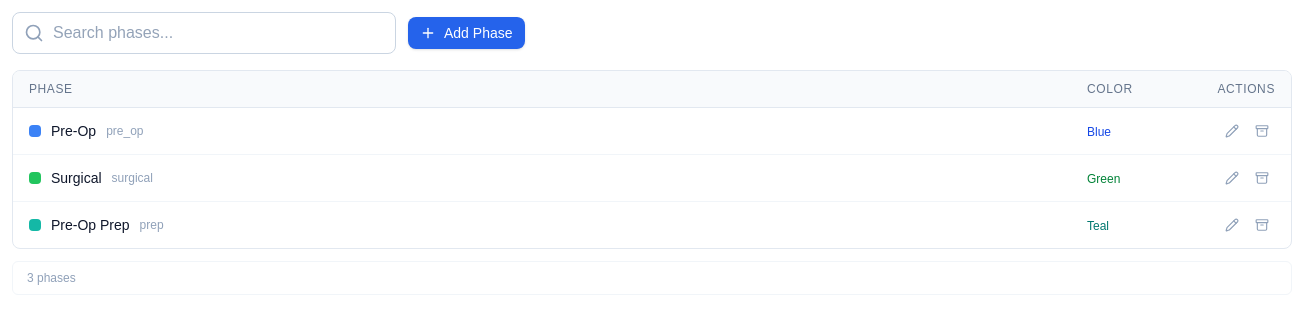
PhaseLibrary › search › filters phases by display name
In the field with placeholder "Search phases...": (204, 33) [12,12,396,54], type "Surg"
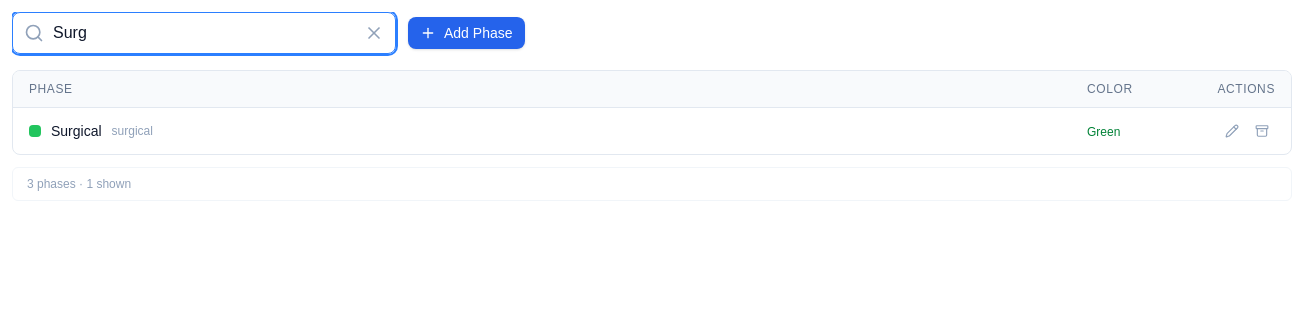
Expected: the text "Surgical" is shown, [51,121,102,141]
Now the text "Pre-Op Prep" is gone
